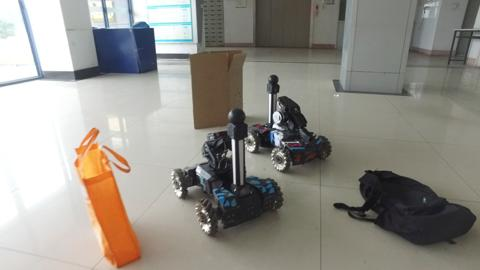bag: (347, 163, 471, 245), (79, 133, 138, 268)
box: (188, 47, 253, 128)
chariot: (173, 107, 282, 239), (249, 71, 333, 173)
